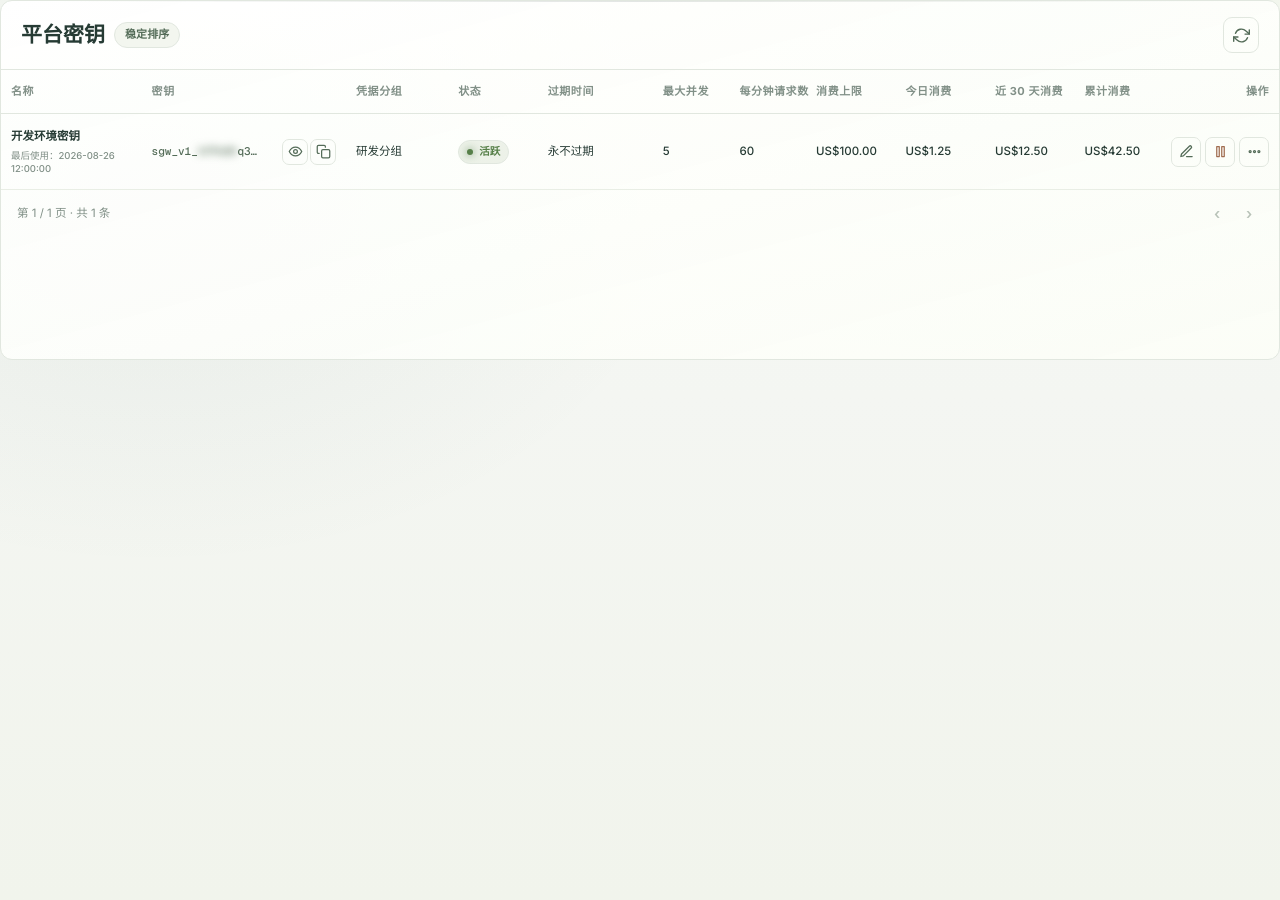
Scenario: platform key management › submits a localized disable action with revision protection
Click the button named "禁用" at (1220, 152), box x1=1205 y1=137 x2=1235 y2=167
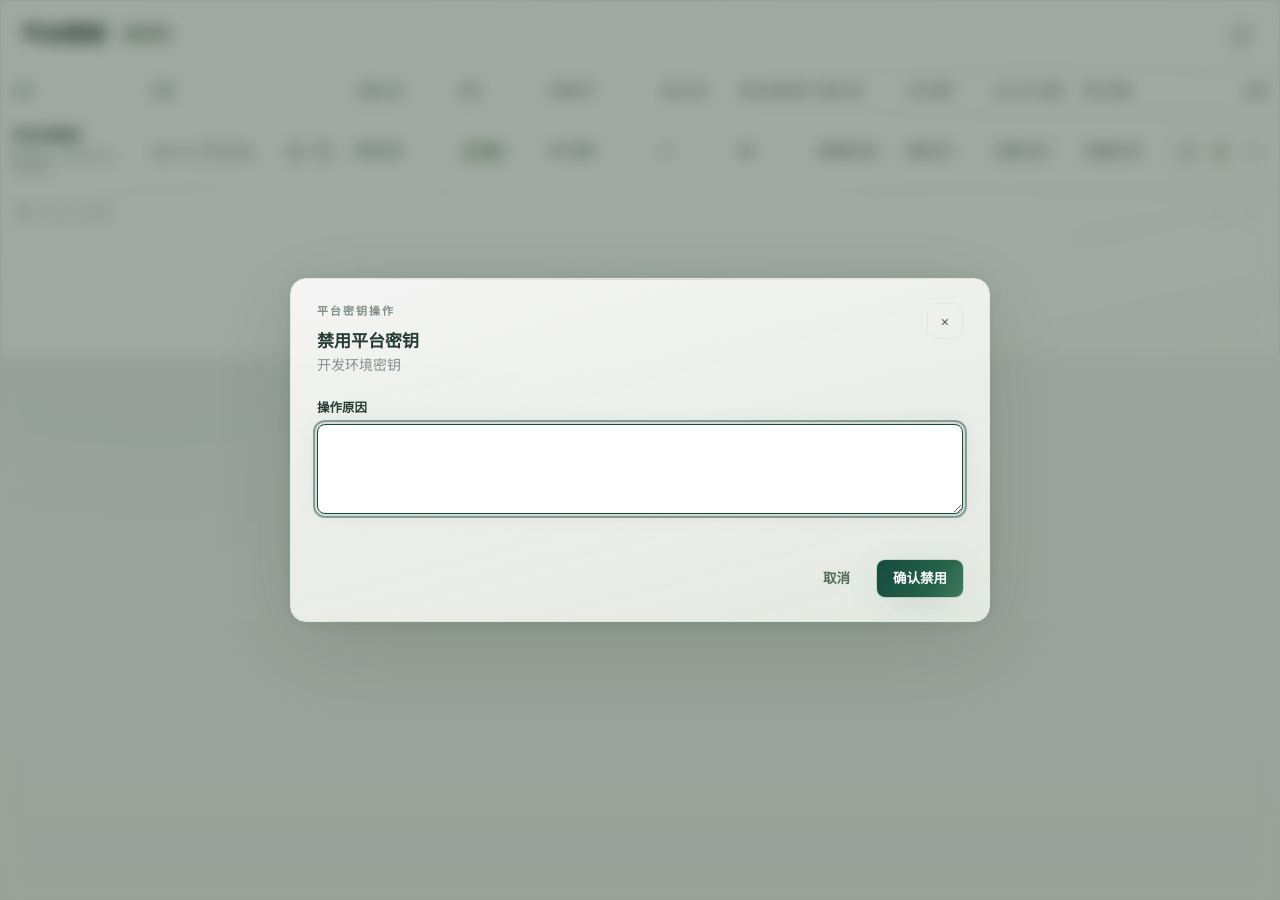
Type "临时停止开发访问" into the text box labelled "操作原因" at (640, 469), box x1=317 y1=424 x2=963 y2=514
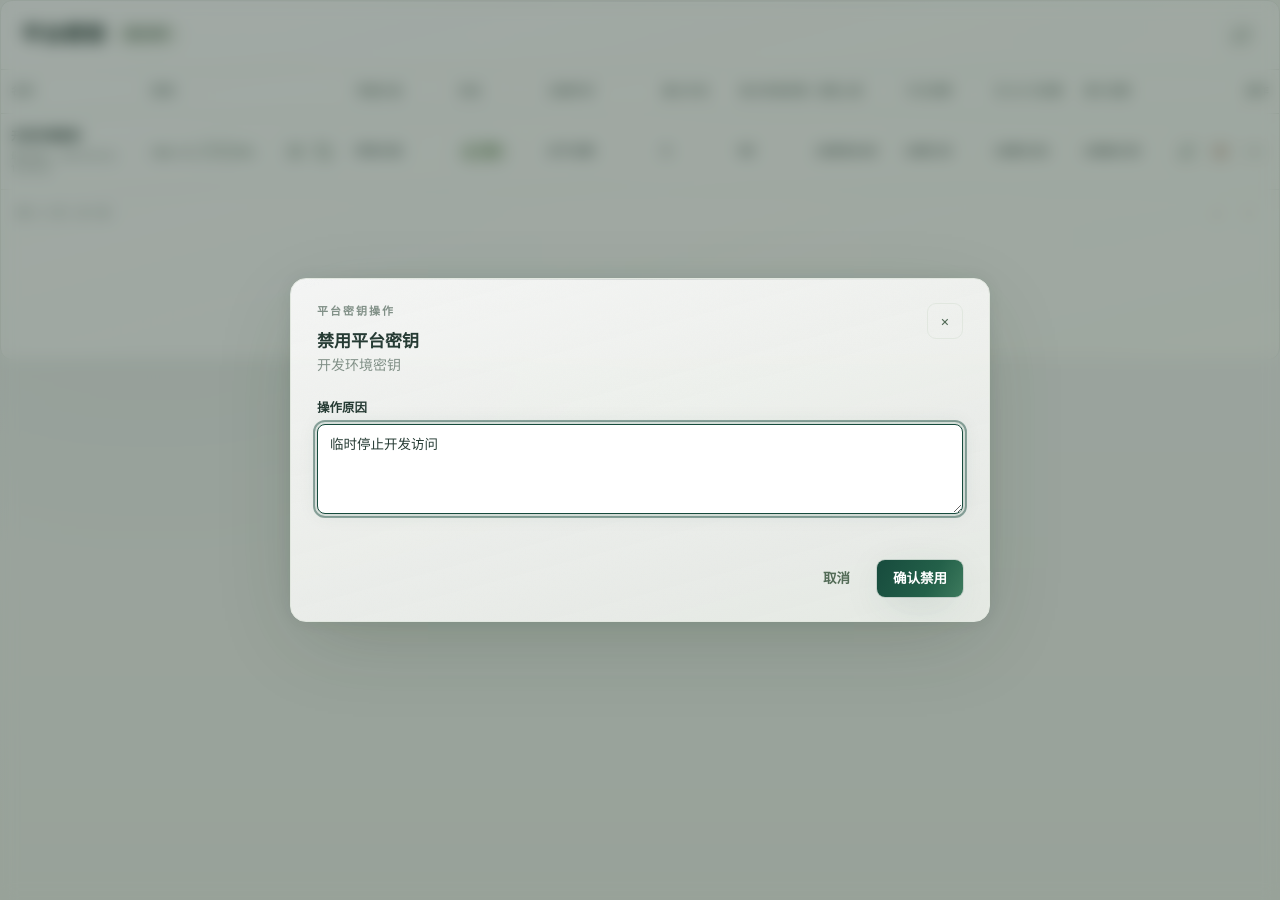
Click the button "确认禁用" at (920, 579), box x1=877 y1=560 x2=963 y2=597
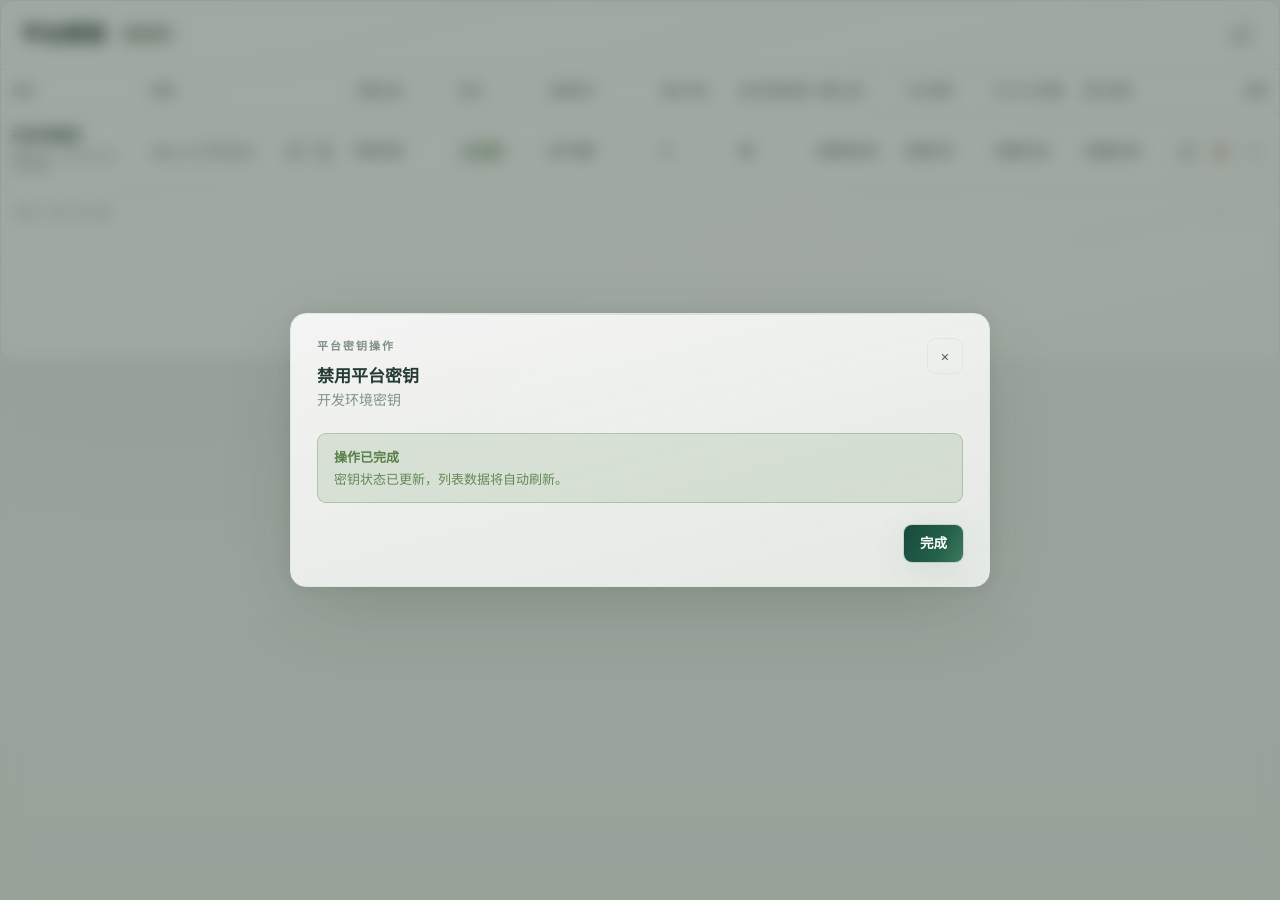
Expected: the text "操作已完成" is shown, x1=334 y1=449 x2=399 y2=465
